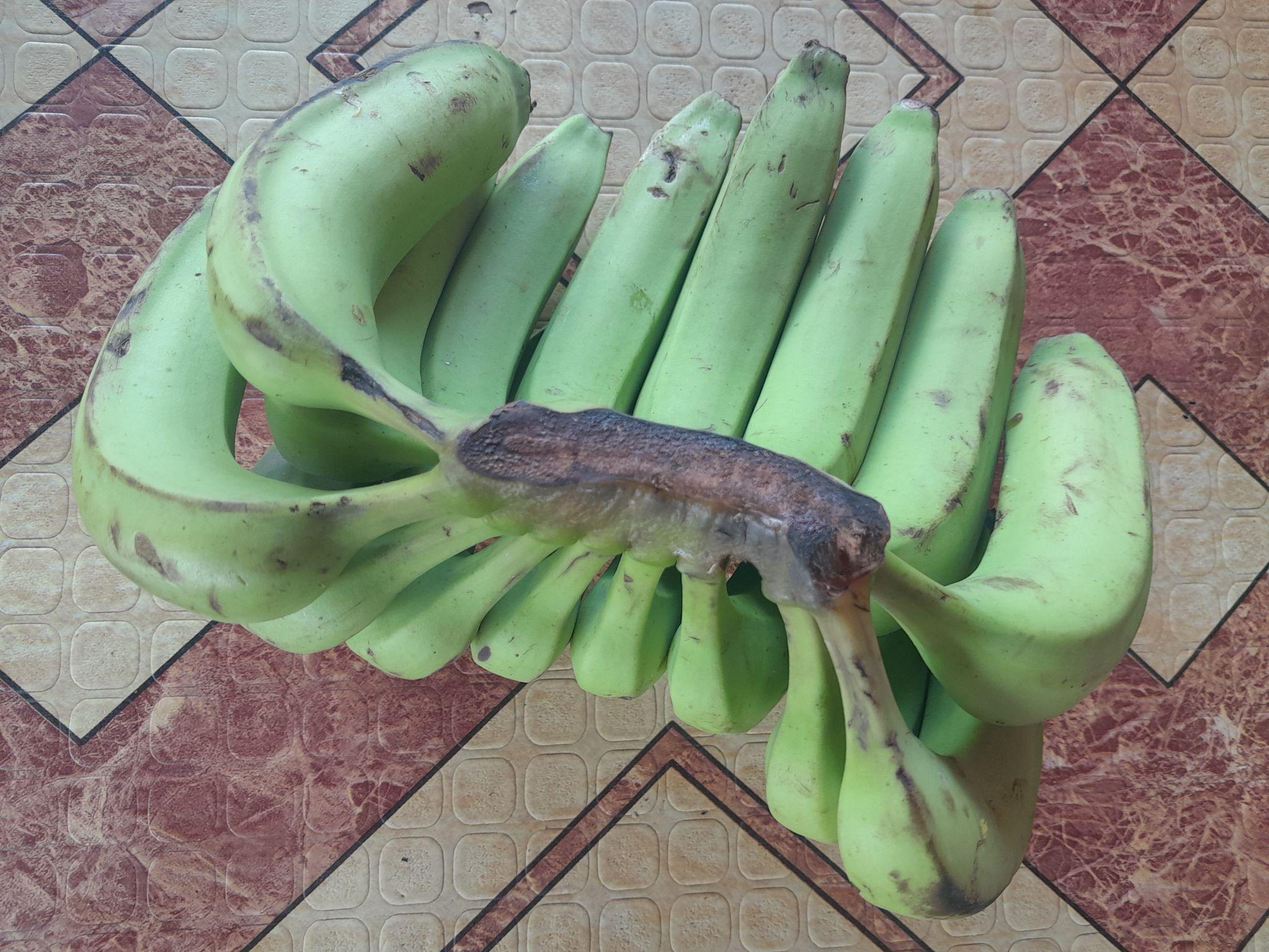Banana Unripe: (74, 196, 459, 622), (208, 42, 530, 451), (872, 335, 1153, 726), (634, 47, 848, 436), (813, 578, 1041, 917), (746, 99, 939, 483), (516, 94, 741, 412), (421, 117, 610, 412), (347, 533, 558, 679), (667, 565, 788, 734), (766, 605, 845, 843), (570, 553, 682, 697)
